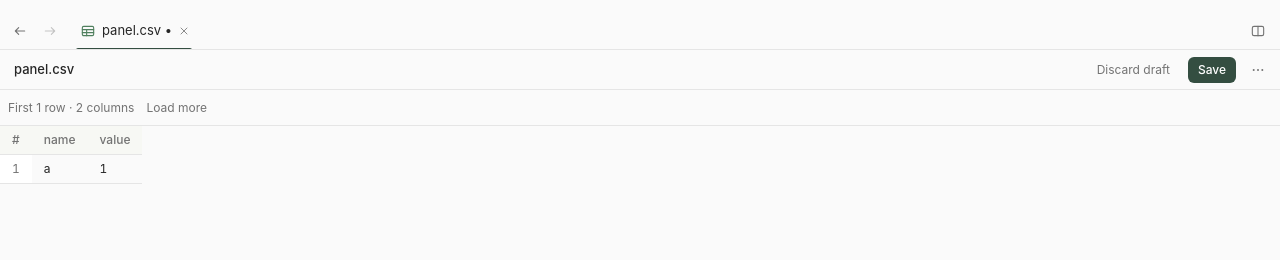
Test case: opens a project CSV as a table of its first rows, with no source view
This screenshot has width=1280, height=260.
Expected: the table shows "value", x1=100 y1=132 x2=130 y2=147
Expected: the text "First 1 row · 2 columns" is shown, x1=8 y1=98 x2=134 y2=116
Click the button named "More file actions".
click(1258, 70)  # box x1=1244 y1=56 x2=1272 y2=84
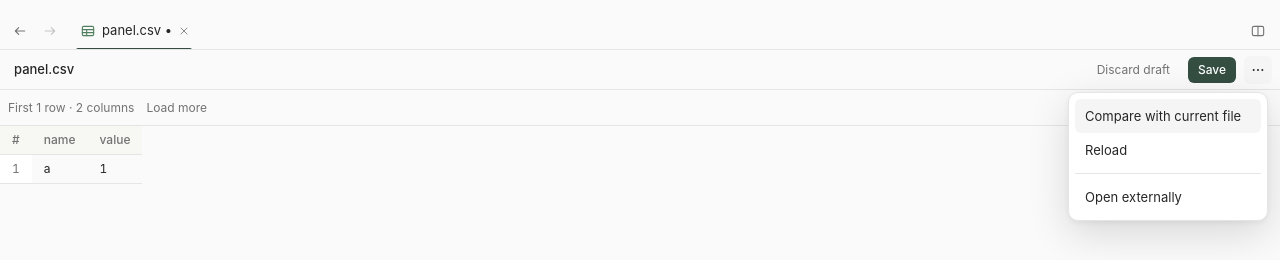
Expected: the menu item "Open externally" is shown, x1=1075 y1=180 x2=1261 y2=214
